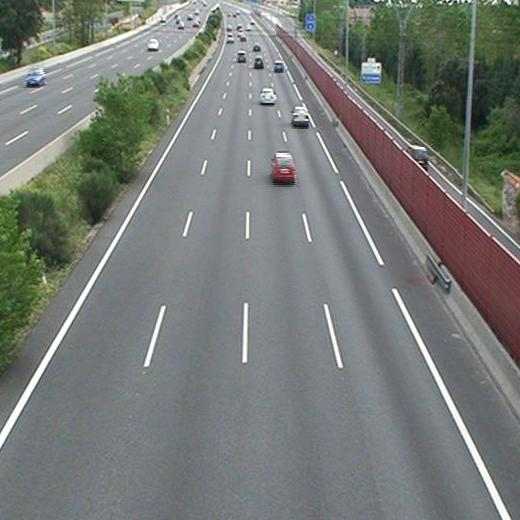car: (273, 153, 295, 180), (293, 107, 309, 124), (261, 87, 276, 103), (273, 61, 284, 71), (253, 58, 263, 69), (237, 52, 245, 63), (253, 44, 262, 53)
